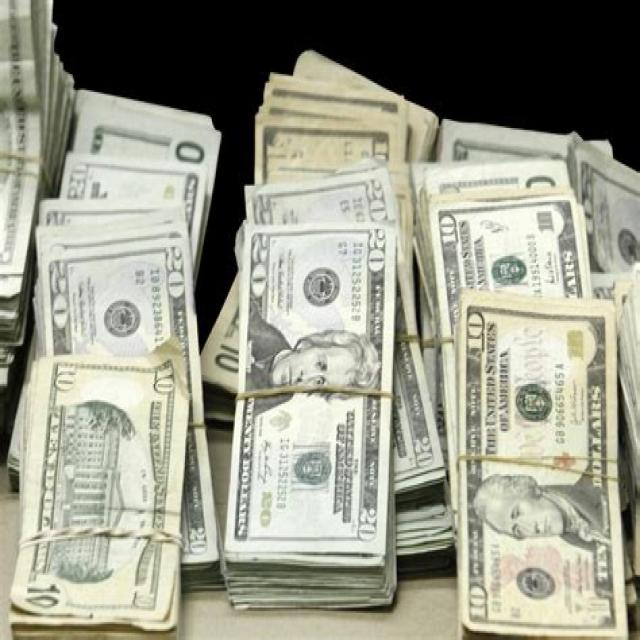banknote: (243, 164, 441, 489), (32, 231, 221, 564), (454, 290, 629, 640), (235, 220, 406, 555), (438, 186, 594, 546), (7, 336, 191, 640), (564, 132, 640, 640), (36, 153, 207, 280), (0, 4, 42, 298), (255, 110, 398, 196), (76, 82, 220, 166), (439, 114, 587, 166), (262, 67, 407, 110), (238, 224, 279, 307), (41, 256, 79, 334), (358, 220, 394, 286), (164, 238, 188, 310), (576, 161, 600, 232), (20, 579, 65, 613), (143, 359, 180, 398), (463, 308, 491, 358), (463, 577, 492, 625), (588, 540, 614, 593), (364, 172, 391, 222), (410, 428, 438, 472), (50, 358, 82, 396), (216, 334, 242, 379), (434, 210, 463, 250), (247, 188, 280, 223), (356, 504, 381, 544), (63, 160, 90, 197), (253, 492, 276, 532), (532, 206, 559, 237)
